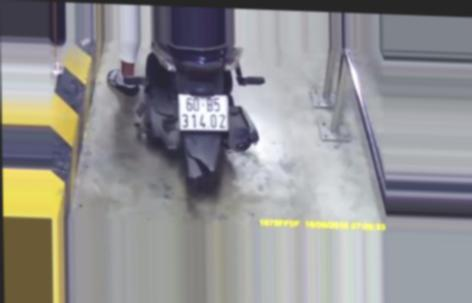License_Plate: (173, 89, 235, 135)
